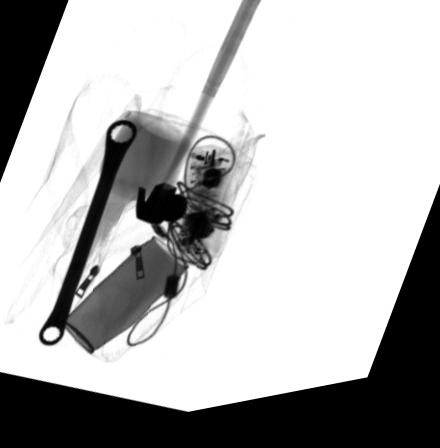Hammer: (135, 0, 268, 230)
Wrench: (38, 122, 137, 347)
